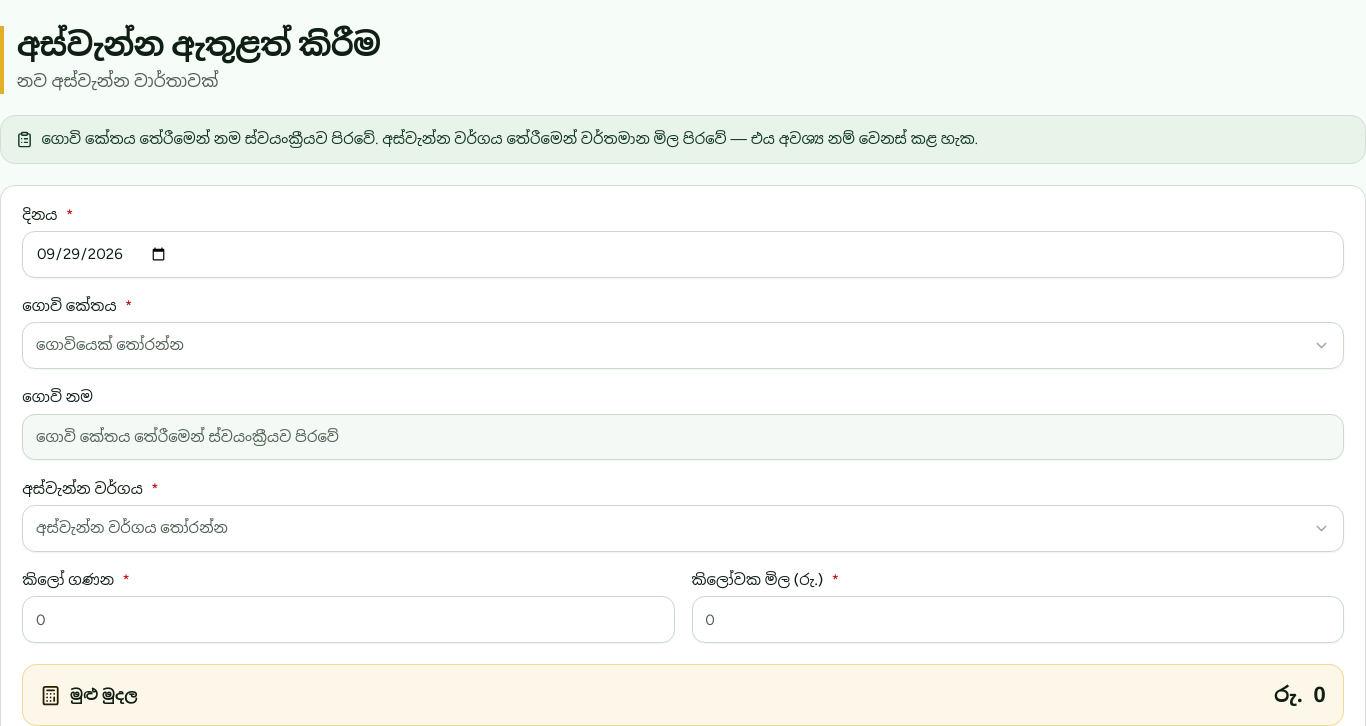
HarvestEntryPage › keeps submit disabled until the required fields are valid
Click the dropdown with test id "harvest.farmer_select": (110, 345) [22, 322, 1344, 369]
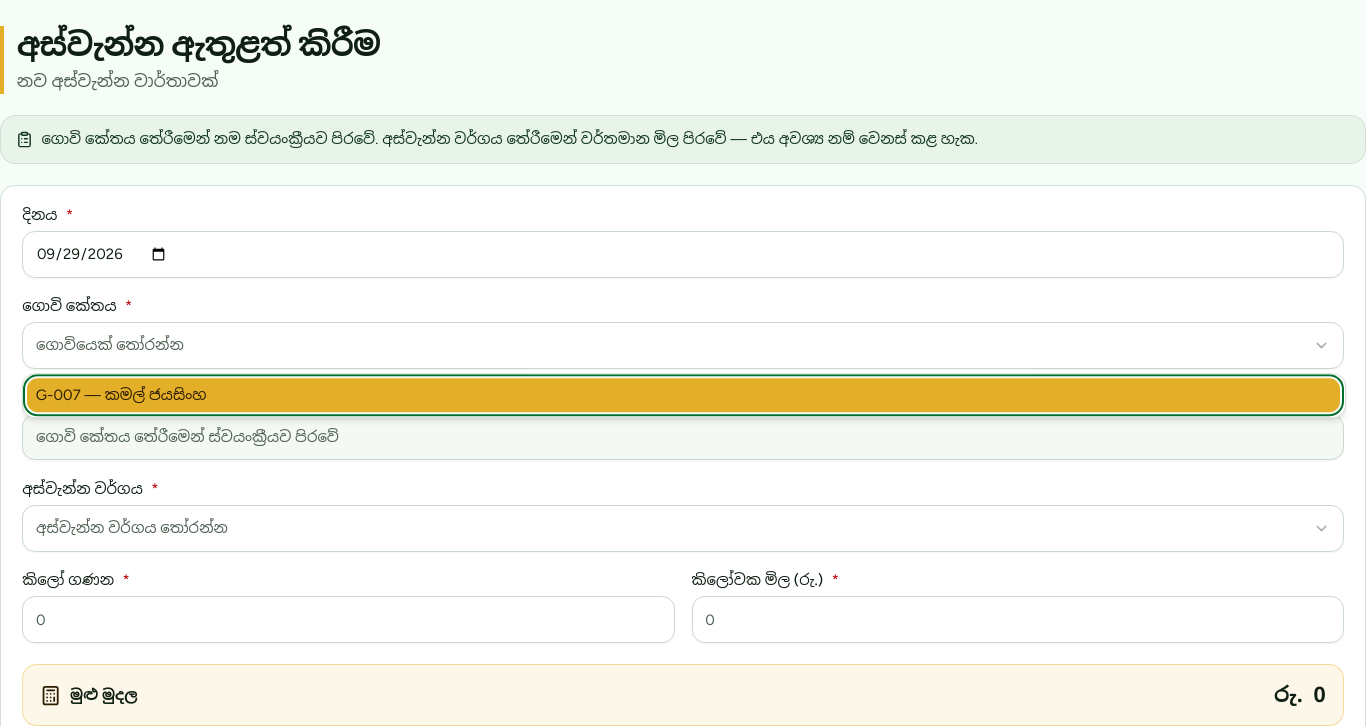
Click the option "G-007 — කමල් ජයසිංහ": (58, 395) [27, 378, 1340, 412]
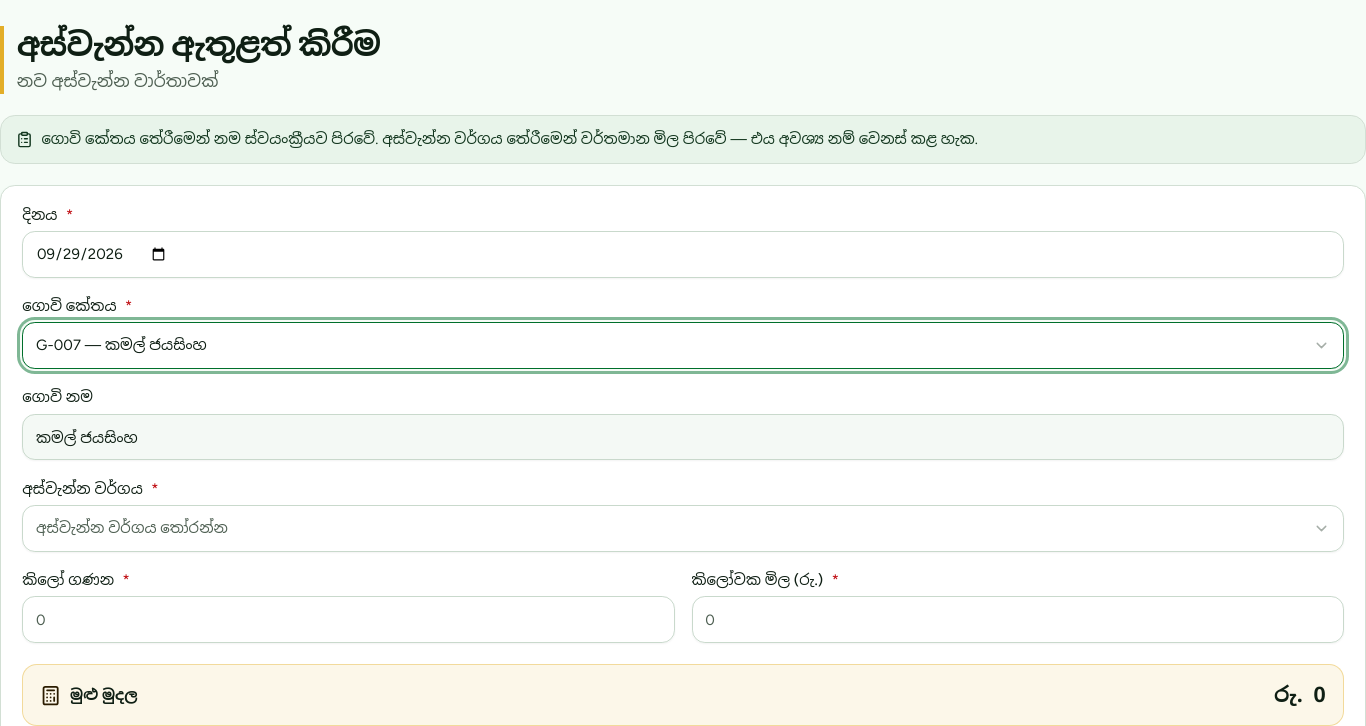
Click the dropdown with test id "harvest.product_select": (132, 528) [22, 505, 1344, 552]
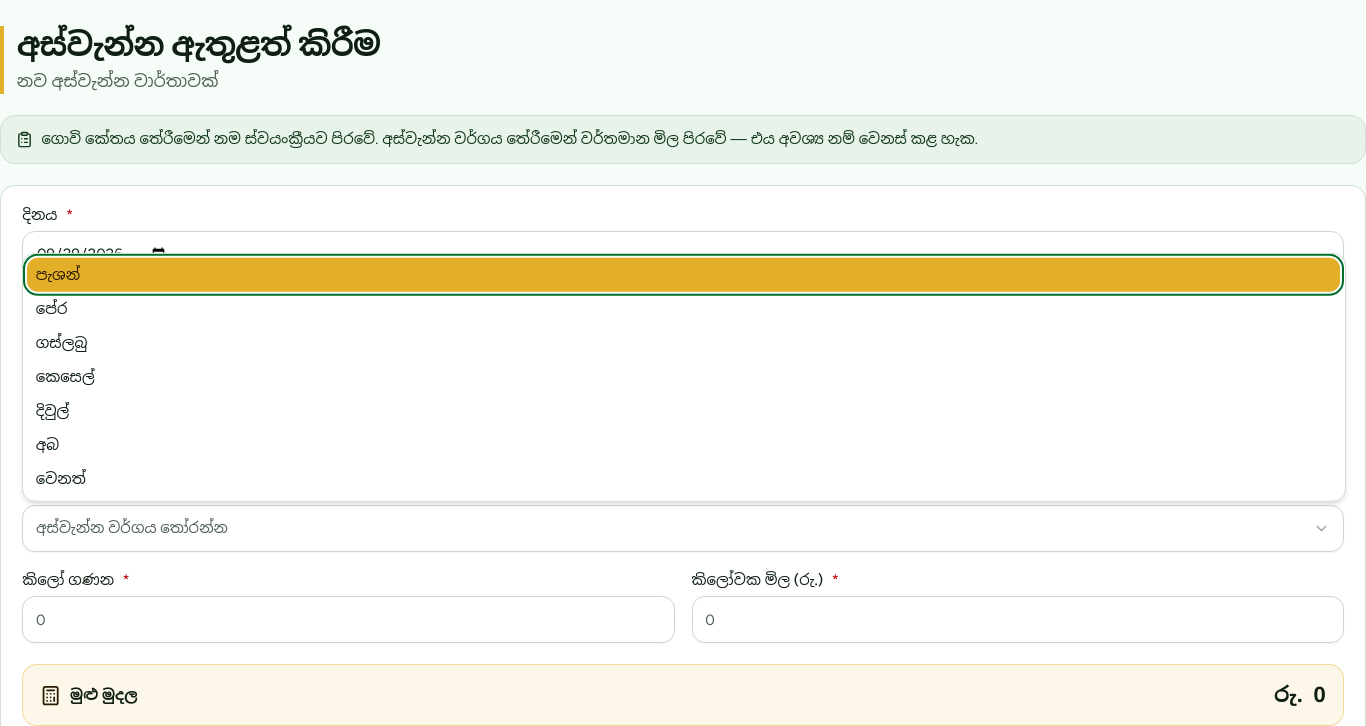
Click the option "කෙසෙල්": (65, 376) [36, 367, 95, 385]
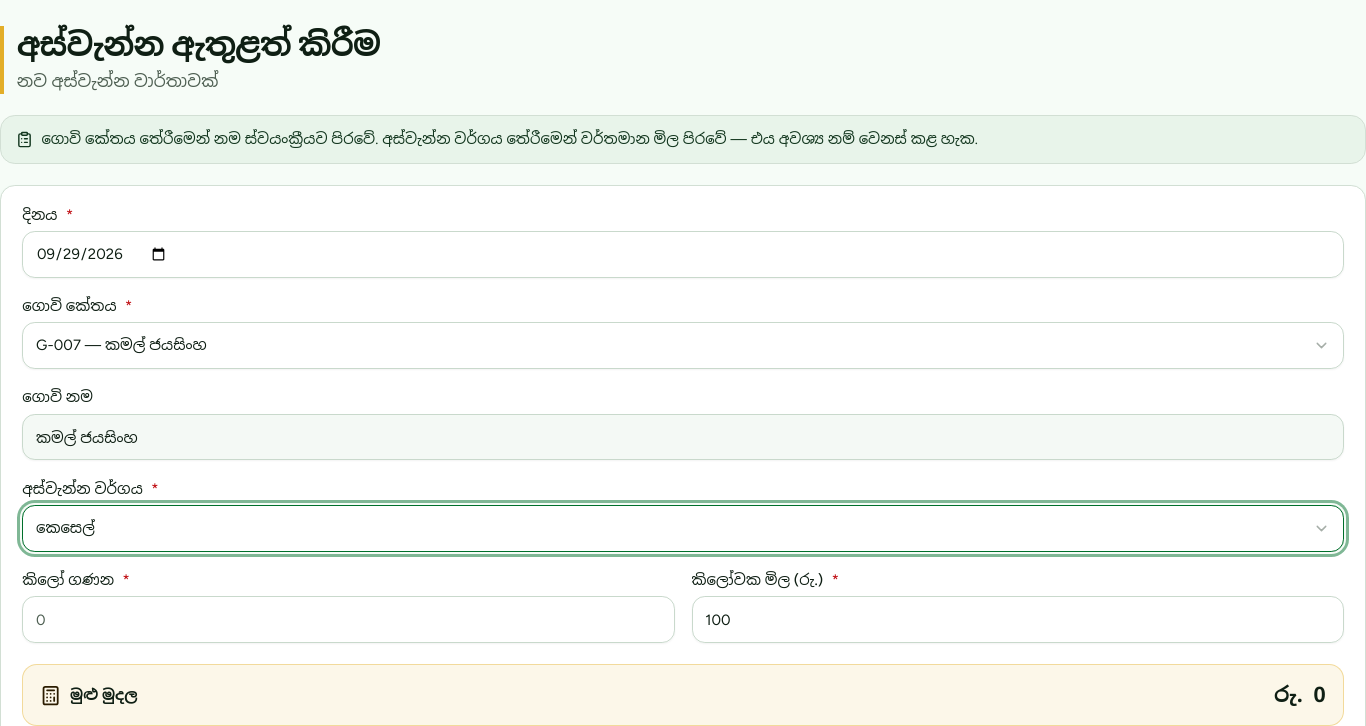
In the number field with test id "harvest.kg_input": (348, 620) [22, 596, 675, 643], type "10"
(page scrolled)
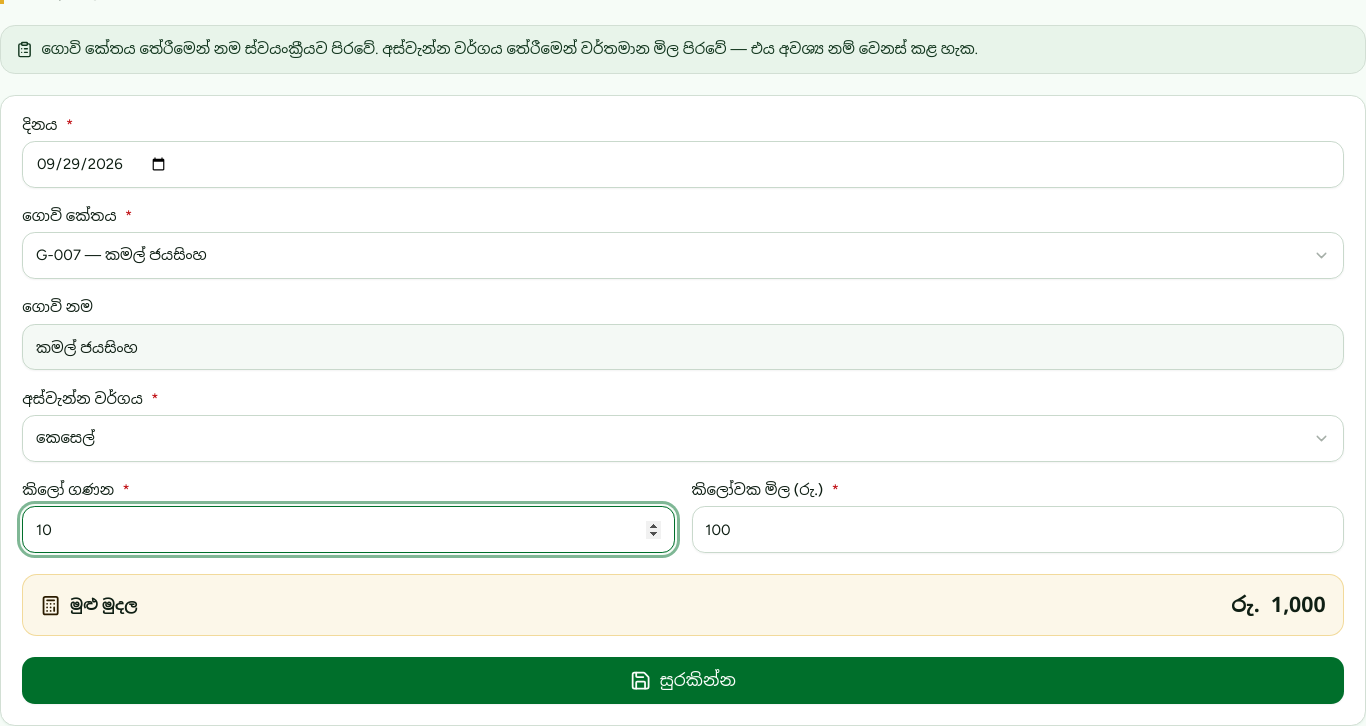
Now the button with test id "harvest.submit_button" is enabled, box [22, 657, 1344, 704]
